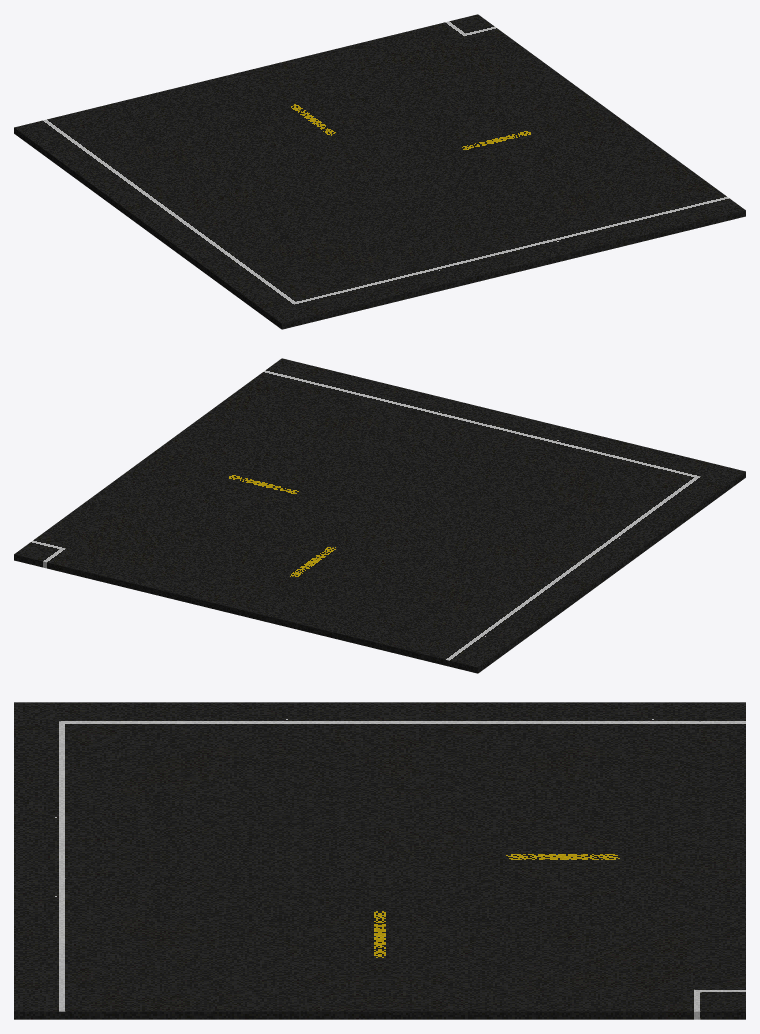
Rendered from road_intersection_Tjunction_01.gltf.
3 renders of one model, top to bottom at view 1: azimuth 30°, elevation 25°; view 2: azimuth 150°, elevation 25°; view 3: azimuth 270°, elevation 25°, orthographic. The views are drawn at different scales.
Parts seen in each view (by area): view 1: road_intersection_Tjunction_01; view 2: road_intersection_Tjunction_01; view 3: road_intersection_Tjunction_01.
Part boxes in pixels (x1=…): road_intersection_Tjunction_01: x1=14, y1=14, x2=745, y2=329; road_intersection_Tjunction_01: x1=14, y1=358, x2=745, y2=673; road_intersection_Tjunction_01: x1=14, y1=702, x2=745, y2=1019.
Bounding box in the file's own units: 8 × 0.1 × 8.
Materials: 1 (1 with a texture image).
